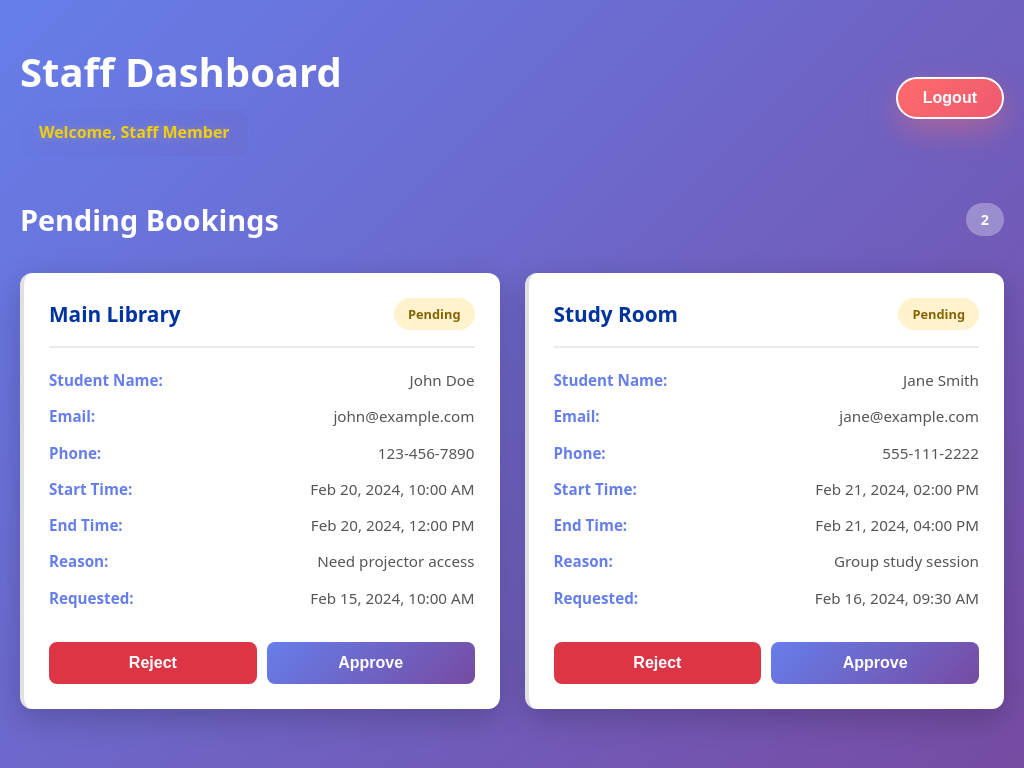
Test: StaffDashboard Page Component › opens reject modal when reject button is clicked
Expected: the heading "Main Library" is shown, [49, 300, 181, 328]
Step 1. Click the button "Reject" below "Feb 15, 2024, 10:00 AM" → [153, 663], box [49, 642, 257, 684]
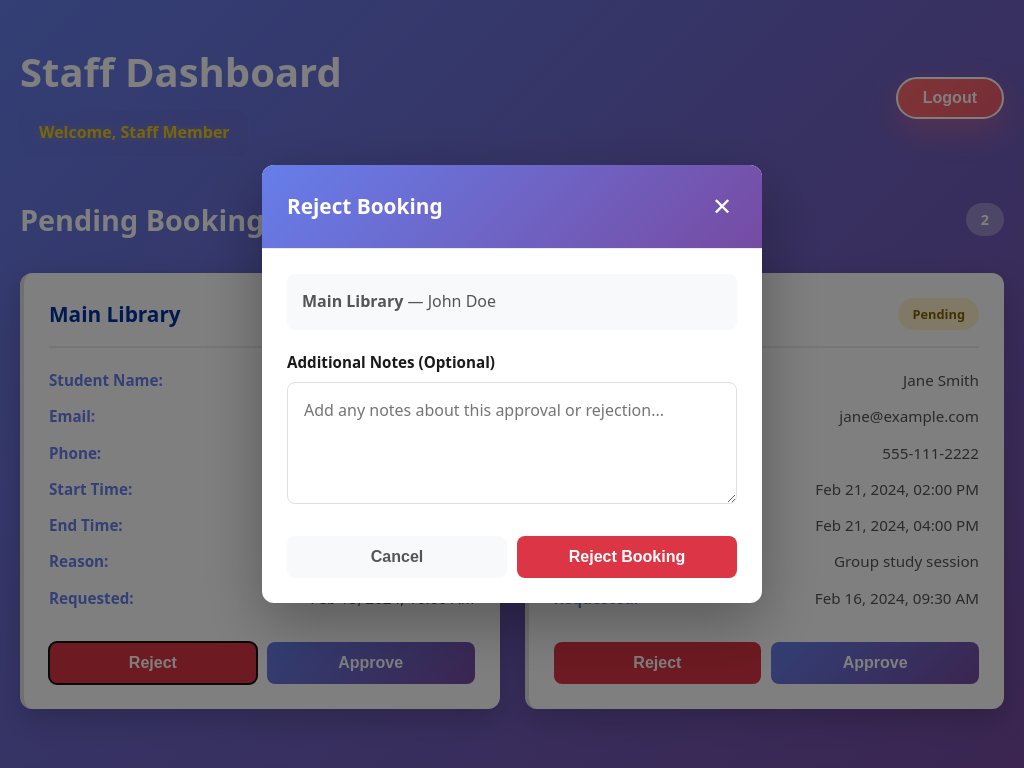
Result: the heading "Reject Booking" is shown at [287, 190, 443, 223]
